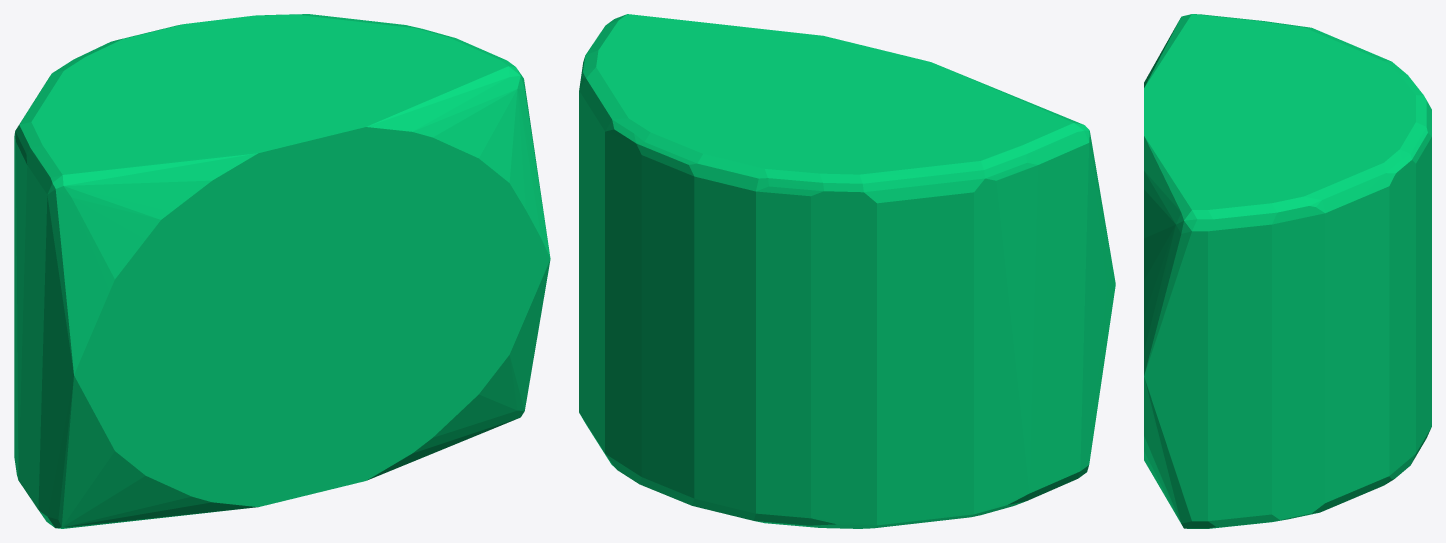
File: model3_convex_piece_002.obj
3 views of the same model, side by side, from view 1: azimuth 30°, elevation 25°; view 2: azimuth 150°, elevation 25°; view 3: azimuth 270°, elevation 25° (orthographic). The views are drawn at different scales.
Bounding box in the file's own units: 0.0216 × 0.0153 × 0.0125.
